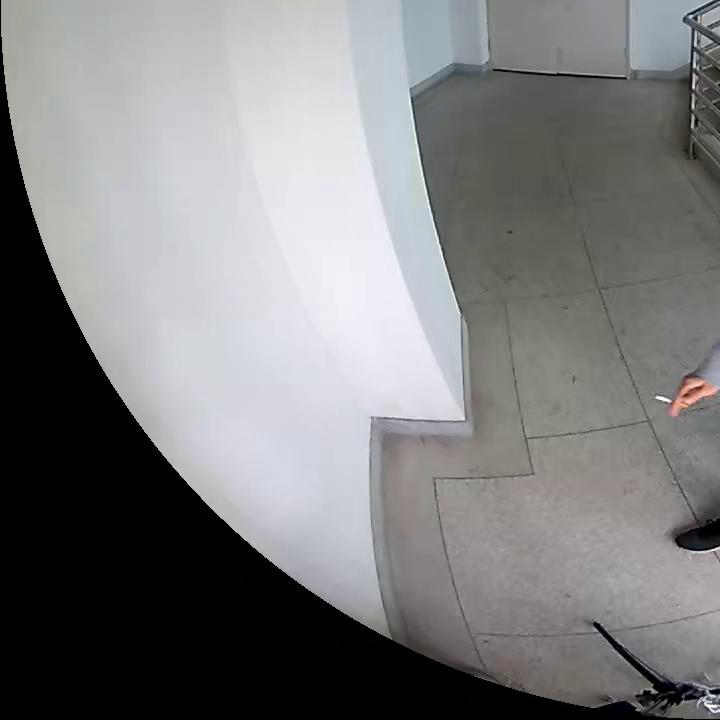handsmoke: (646, 368, 716, 419)
